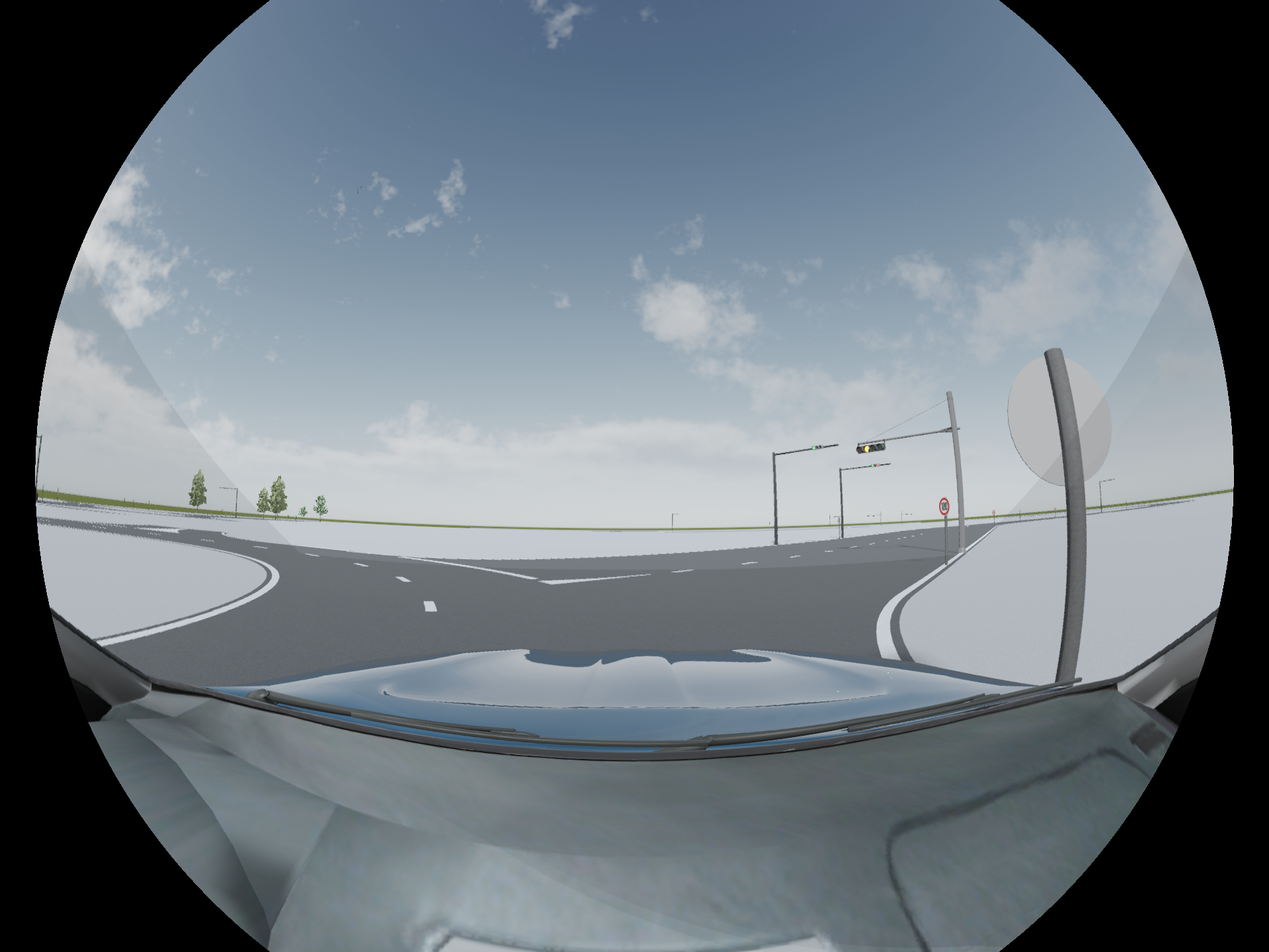Green Light: (811, 444, 824, 451)
Speed Limit 100: (939, 498, 949, 516)
